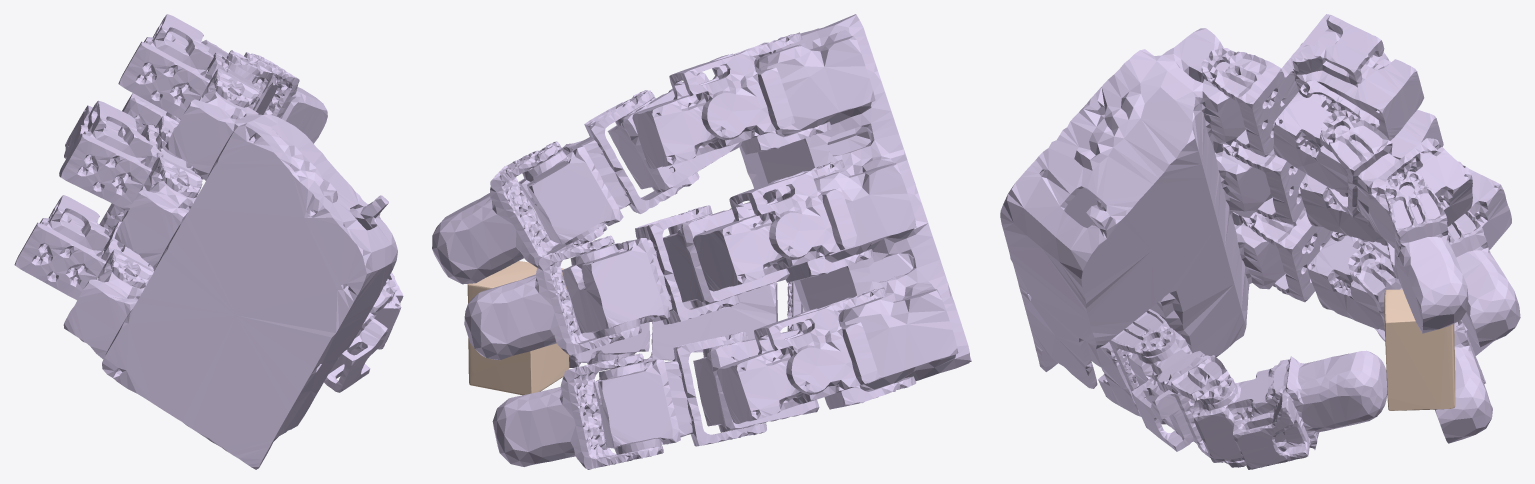
The picture shows the model from 3 angles, left to right: view 1: azimuth 30°, elevation 25°; view 2: azimuth 150°, elevation 25°; view 3: azimuth 270°, elevation 25°; orthographic projection. The views are drawn at different scales.
Visible parts, largest first — view 1: LEAP_hand; view 2: LEAP_hand, world; view 3: LEAP_hand, world.
Boxes of the visible parts, x1,y1,x2,y2 form: LEAP_hand: (14, 14, 403, 469); LEAP_hand: (432, 14, 971, 469); world: (467, 261, 569, 395); LEAP_hand: (1000, 14, 1520, 469); world: (1384, 289, 1455, 410).
Bounding box in the file's own units: 0.1648 × 0.1593 × 0.1955.
